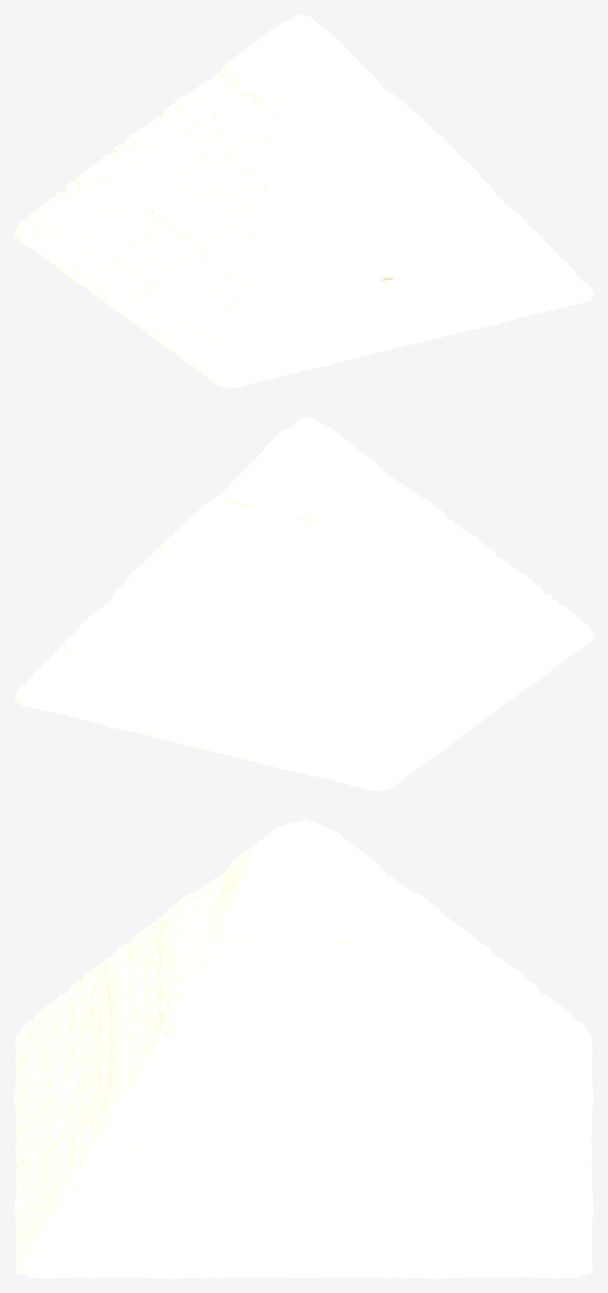
File: 20250702_pyramyds_for_mb_pyramid2h.glb
The picture shows the model from 3 angles, top to bottom: view 1: azimuth 30°, elevation 25°; view 2: azimuth 150°, elevation 25°; view 3: azimuth 270°, elevation 25°; orthographic projection. The views are drawn at different scales.
Visible parts, largest first — view 1: khafre; view 2: khafre; view 3: khafre.
Boxes of the visible parts, x1,y1,x2,y2 form: khafre: (14, 14, 593, 388); khafre: (14, 417, 593, 791); khafre: (14, 820, 593, 1278).
Size of the model in its own units: 217 by 136 by 216.
1 material, 1 textured.
